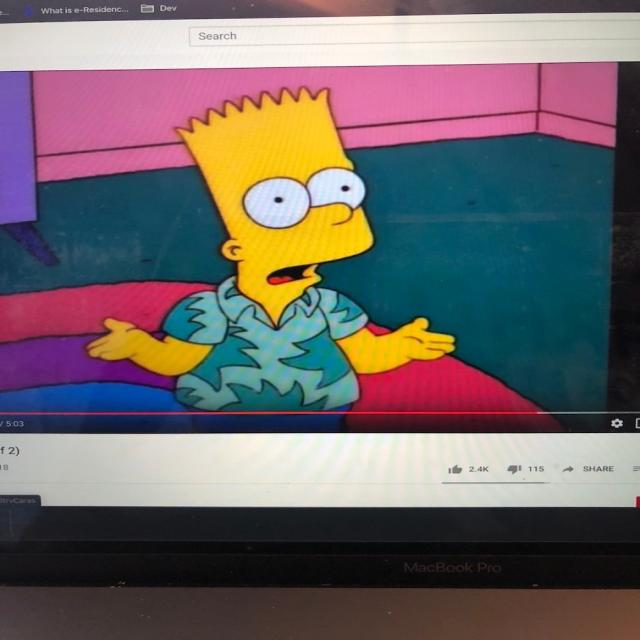Bart Simpson: (170, 82, 380, 317)
